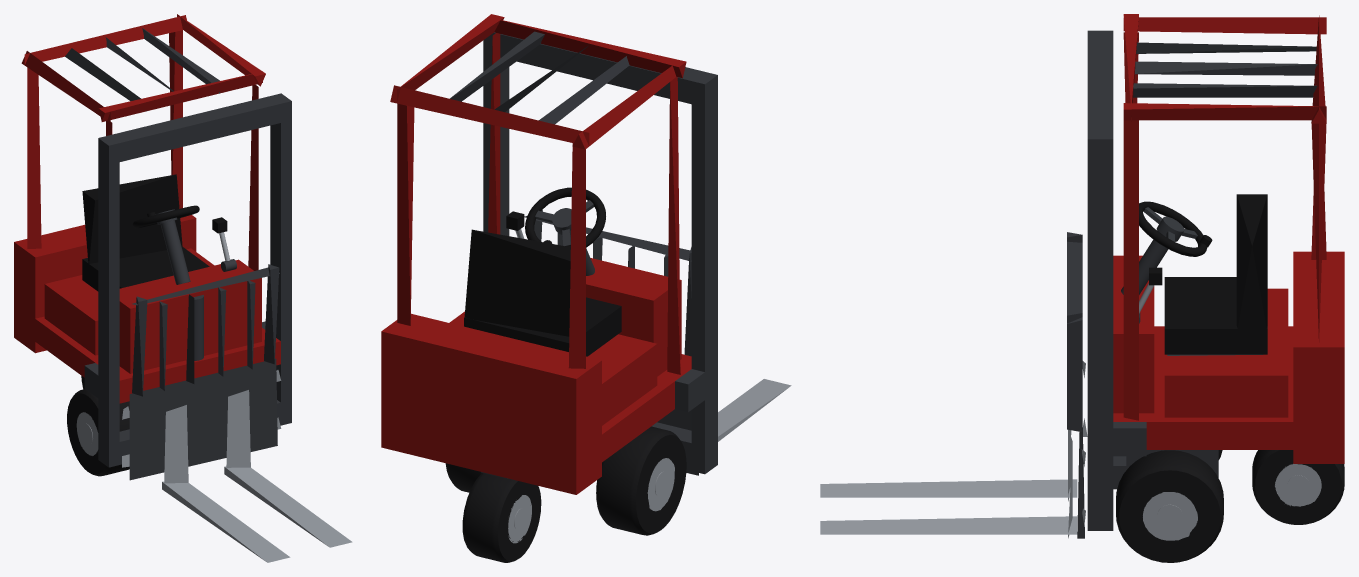
File: forklift.glb
The picture shows the model from 3 angles, left to right: view 1: azimuth 30°, elevation 25°; view 2: azimuth 150°, elevation 25°; view 3: azimuth 270°, elevation 25°; orthographic projection. The views are drawn at different scales.
Parts seen in each view (by area): view 1: chassis, fork_carriage, overhead_guard, seat_block, front_right_wheel, steering_wheel, lift_lever; view 2: chassis, overhead_guard, seat_block, front_right_wheel, rear_wheel, fork_carriage, steering_wheel, front_left_wheel; view 3: chassis, overhead_guard, fork_carriage, seat_block, front_left_wheel, rear_wheel, steering_wheel.
Boxes of the visible parts, x1,y1,x2,y2 form: chassis: (14,93,291,467); fork_carriage: (122,264,352,562); overhead_guard: (21,14,265,270); seat_block: (82,174,209,291); front_right_wheel: (67,389,129,476); steering_wheel: (132,205,199,228); lift_lever: (212,217,236,271); chassis: (381,32,717,494); overhead_guard: (390,14,686,374); seat_block: (464,229,621,356); front_right_wheel: (596,426,686,535); rear_wheel: (462,473,541,562); fork_carriage: (524,210,791,475); steering_wheel: (525,187,605,247); front_left_wheel: (445,463,481,492); chassis: (1087,30,1344,530); overhead_guard: (1123,14,1326,420); fork_carriage: (820,232,1087,538); seat_block: (1164,194,1267,355); front_left_wheel: (1116,450,1223,562); rear_wheel: (1252,450,1344,524); steering_wheel: (1139,201,1212,256).
Bounding box in the file's own units: 1 × 1.96 × 2.04.
